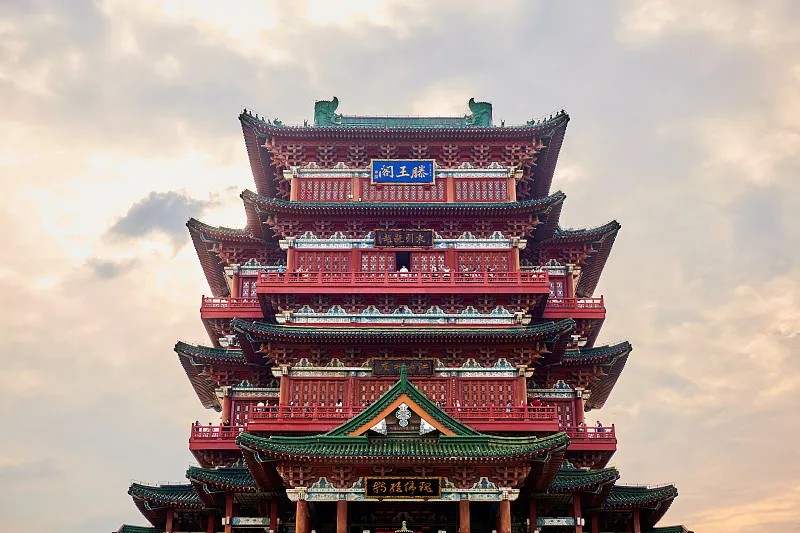Teng: (114, 96, 690, 533)
